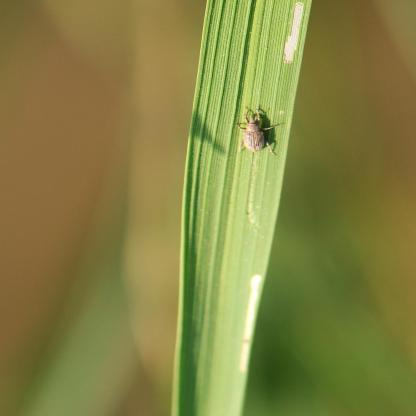rice-bug: (235, 107, 283, 155)
